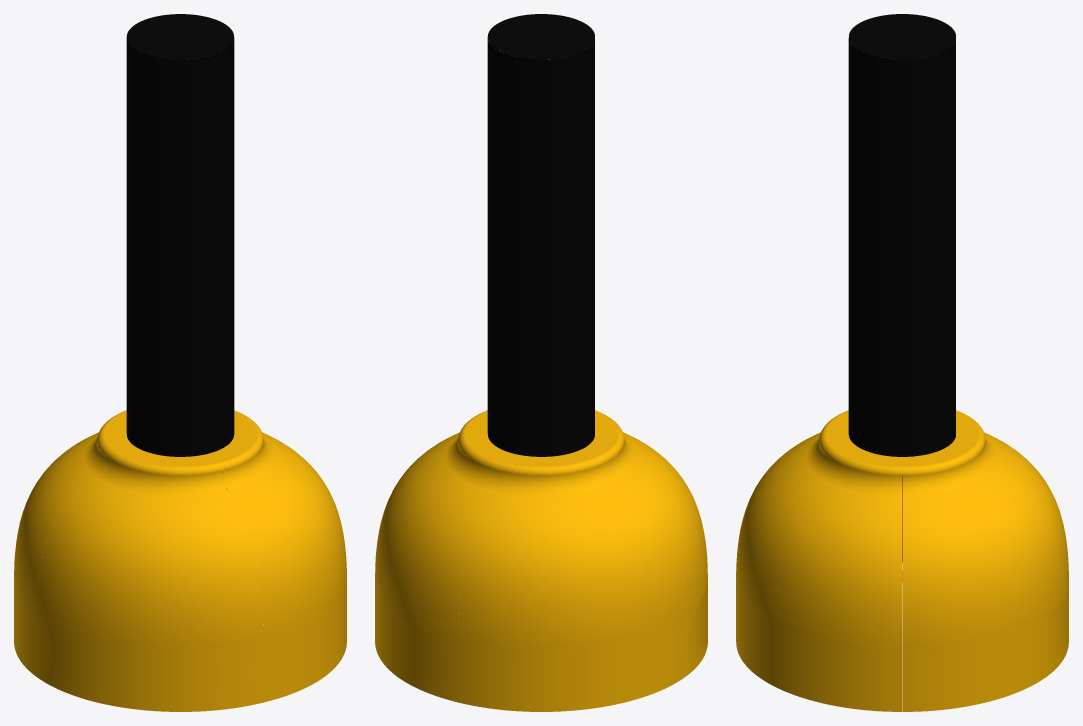
The model's file is Levele-foot.glb.
3 views of the same model, side by side, from view 1: azimuth 30°, elevation 25°; view 2: azimuth 150°, elevation 25°; view 3: azimuth 270°, elevation 25° (orthographic).
Visible parts, largest first — view 1: WM-Shelf-SmartPro-Leveler; view 2: WM-Shelf-SmartPro-Leveler; view 3: WM-Shelf-SmartPro-Leveler.
Part boxes in pixels (x1,y1,x2,y2): WM-Shelf-SmartPro-Leveler: (14, 14, 346, 711); WM-Shelf-SmartPro-Leveler: (375, 14, 707, 711); WM-Shelf-SmartPro-Leveler: (736, 14, 1068, 711).
Bounding box in the file's own units: 0.024 × 0.0481 × 0.024.
